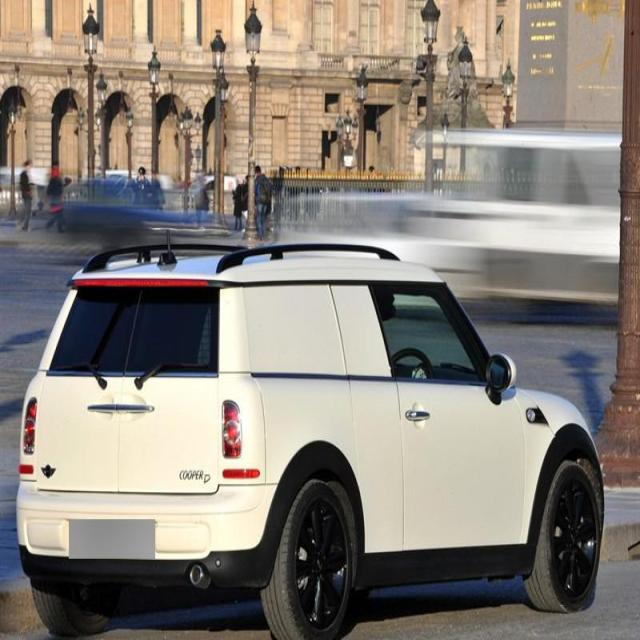back_glass: (46, 281, 224, 379)
back_left_side_light: (18, 388, 40, 458)
back_right_side_light: (220, 398, 243, 460)
front_right_side_door: (370, 273, 527, 559)
front_right_side_mirror: (484, 348, 515, 406)
rear_bumper: (15, 476, 286, 597)
wheel: (265, 483, 350, 638), (533, 464, 599, 613), (34, 587, 122, 635)
